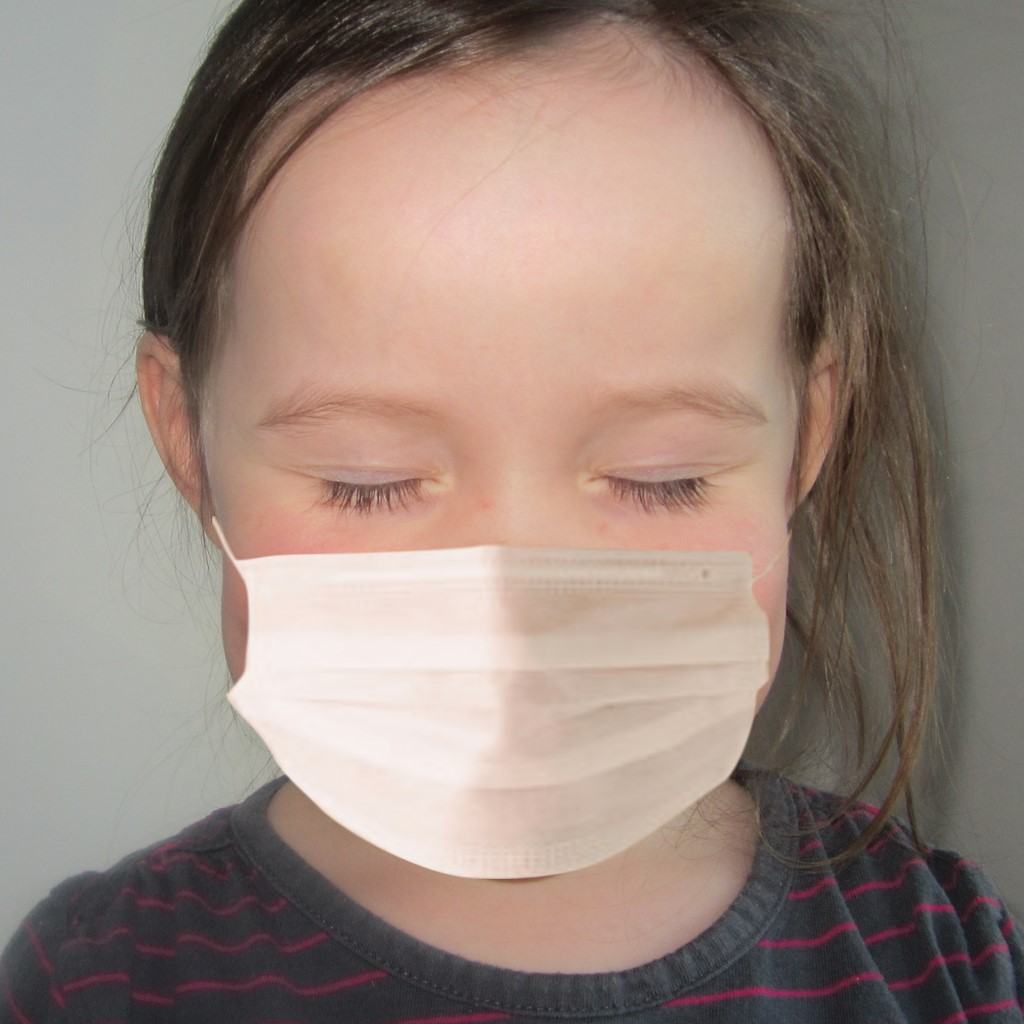con_mascara: (157, 54, 849, 861)
